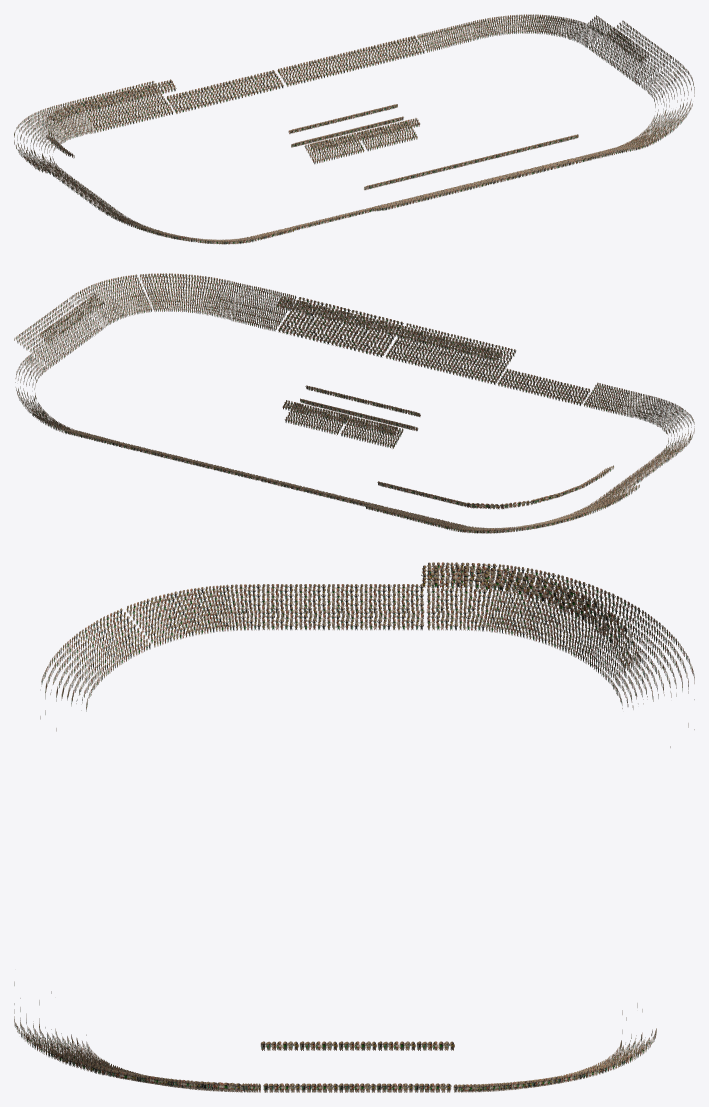
The model's file is Track4_Peoples.fbx.
3 renders of one model, top to bottom at view 1: azimuth 30°, elevation 25°; view 2: azimuth 150°, elevation 25°; view 3: azimuth 270°, elevation 25°, orthographic. The views are drawn at different scales.
Visible parts, largest first — view 1: polySurface223, polySurface101, polySurface106, polySurface107, polySurface105, polySurface103, polySurface108, polySurface212, polySurface104, polySurface224, polySurface102, polySurface207 (+21 smaller); view 2: polySurface212, polySurface215, polySurface227, polySurface224, polySurface225, polySurface211, polySurface226, polySurface223, polySurface146, polySurface100, polySurface216, polySurface145 (+9 smaller); view 3: polySurface190, polySurface198, polySurface212, polySurface194, polySurface199, polySurface195, polySurface196, polySurface197, polySurface193, polySurface191, polySurface192, polySurface108 (+19 smaller).
Part boxes in pixels (x1,y1,x2,y2): polySurface223: [368, 134, 578, 188]; polySurface101: [427, 30, 587, 52]; polySurface106: [419, 18, 599, 42]; polySurface107: [418, 16, 601, 39]; polySurface105: [421, 21, 596, 43]; polySurface103: [424, 25, 592, 48]; polySurface108: [417, 14, 603, 37]; polySurface212: [14, 81, 154, 171]; polySurface104: [422, 23, 594, 46]; polySurface224: [367, 135, 577, 189]; polySurface102: [425, 28, 589, 50]; polySurface207: [33, 96, 163, 176]; polySurface212: [365, 484, 639, 533]; polySurface215: [377, 465, 613, 508]; polySurface227: [276, 304, 498, 361]; polySurface224: [280, 298, 501, 355]; polySurface225: [278, 300, 500, 357]; polySurface211: [367, 485, 636, 533]; polySurface226: [278, 302, 499, 359]; polySurface223: [281, 296, 502, 353]; polySurface146: [140, 273, 296, 299]; polySurface100: [112, 441, 257, 480]; polySurface216: [378, 466, 611, 508]; polySurface145: [140, 276, 294, 300]; polySurface190: [154, 623, 423, 647]; polySurface198: [129, 588, 423, 616]; polySurface212: [427, 562, 694, 729]; polySurface194: [142, 606, 424, 632]; polySurface199: [126, 584, 422, 612]; polySurface195: [139, 602, 423, 628]; polySurface196: [136, 597, 423, 625]; polySurface197: [132, 593, 423, 620]; polySurface193: [144, 610, 424, 636]; polySurface191: [150, 618, 424, 643]; polySurface192: [147, 614, 423, 639]; polySurface108: [454, 1028, 656, 1091].
Size of the model in its own units: 21019 by 1493 by 11606.
